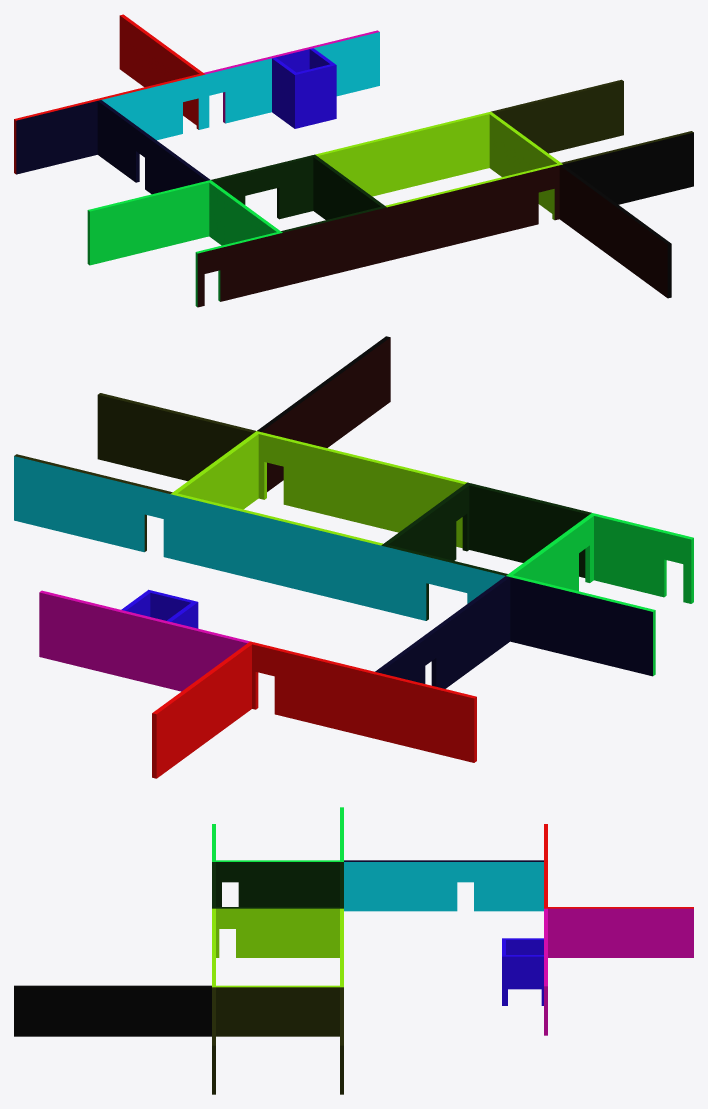
File: Bank1stInteriorWall.FBX
3 views of the same model, one above another, from view 1: azimuth 30°, elevation 25°; view 2: azimuth 150°, elevation 25°; view 3: azimuth 270°, elevation 25° (orthographic). The views are drawn at different scales.
Parts seen in each view (by area): view 1: Bank1stInteriorWall; view 2: Bank1stInteriorWall; view 3: Bank1stInteriorWall.
Boxes of the visible parts, x1=… form: Bank1stInteriorWall: x1=14, y1=14, x2=693, y2=307; Bank1stInteriorWall: x1=14, y1=336, x2=693, y2=778; Bank1stInteriorWall: x1=14, y1=807, x2=693, y2=1094.
Bounding box in the file's own units: 3581 × 345 × 4318.
